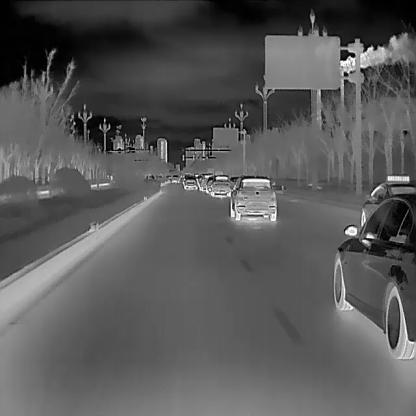car: (333, 192, 416, 360), (361, 171, 414, 248), (229, 173, 276, 222), (210, 174, 230, 196), (182, 177, 196, 189)
